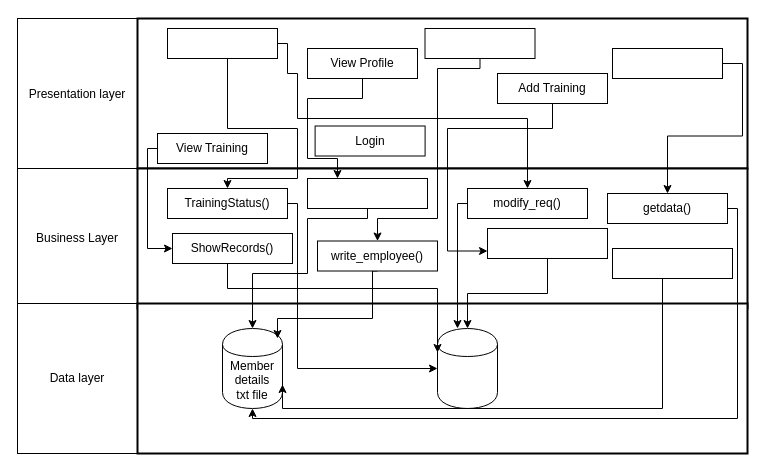
The diagram is 768 pixels wide and 471 high, and some of its shapes have lost their labels. Each missing label, with the centre of its shape:
Add Records: the point at 667,63
Apply Training: the point at 222,43
modify_employee(): the point at 672,263
print_all(): the point at 367,193
Training details txt file: the point at 467,368
Update Records: the point at 479,43
Write_training(): the point at 547,243
